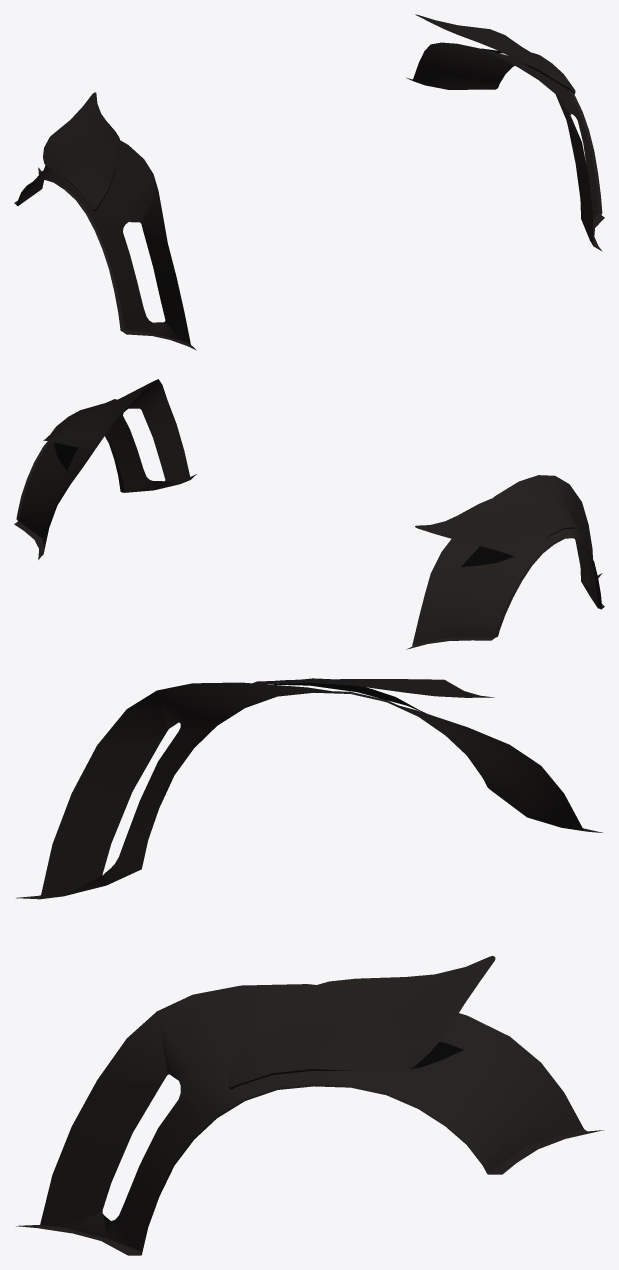
File: RWB_RF_03_Trim.fbx
The picture shows the model from 3 angles, top to bottom: view 1: azimuth 30°, elevation 25°; view 2: azimuth 150°, elevation 25°; view 3: azimuth 270°, elevation 25°; orthographic projection. The views are drawn at different scales.
Parts seen in each view (by area): view 1: RWB_RF_03_Trim; view 2: RWB_RF_03_Trim; view 3: RWB_RF_03_Trim.
Part boxes in pixels (box(x1,y1,x2,y2)): RWB_RF_03_Trim: box(14, 14, 604, 350); RWB_RF_03_Trim: box(14, 379, 604, 649); RWB_RF_03_Trim: box(16, 678, 603, 1255).
Size of the model in its own units: 186 by 51.59 by 117.
